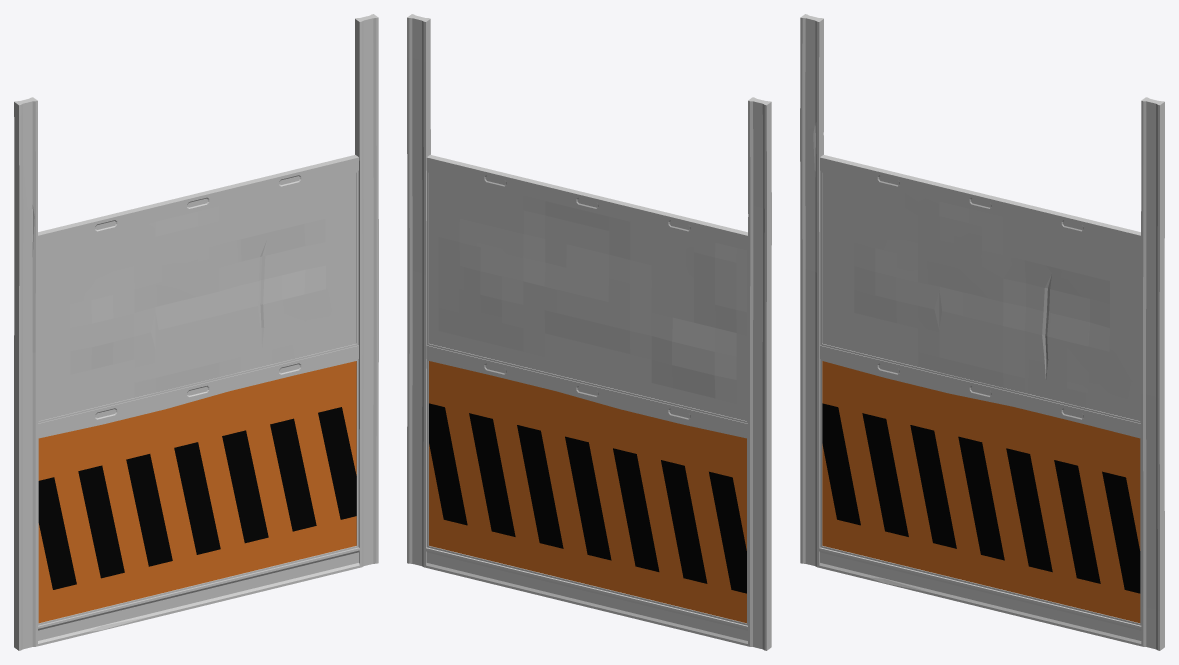
File: SM_Wall_05.glb
3 views of the same model, side by side, from view 1: azimuth 30°, elevation 25°; view 2: azimuth 150°, elevation 25°; view 3: azimuth 330°, elevation 25° (orthographic).
Visible parts, largest first — view 1: SM_Wall_05; view 2: SM_Wall_05; view 3: SM_Wall_05.
Part boxes in pixels (x1,y1,x2,y2): SM_Wall_05: (14,14,378,650); SM_Wall_05: (407,14,771,650); SM_Wall_05: (800,14,1164,650).
Bounding box in the file's own units: 2 × 2.9 × 0.05.
